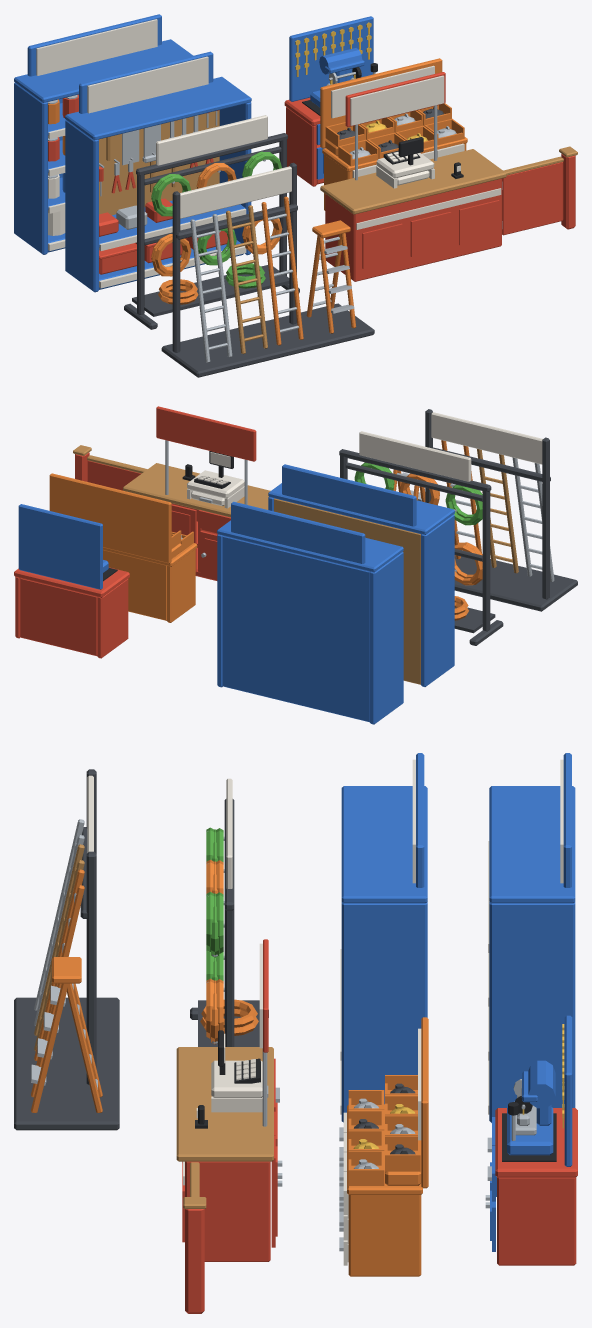
The model's file is hardware-store-set.glb.
The picture shows the model from 3 angles, top to bottom: view 1: azimuth 30°, elevation 25°; view 2: azimuth 150°, elevation 25°; view 3: azimuth 270°, elevation 25°; orthographic projection. The views are drawn at different scales.
Parts seen in each view (by area): view 1: Shelf_Tools, CheckoutCounter, LadderDisplay, Shelf_PaintCans, HoseRack, BoltBins, KeyCuttingMachine, Counter_Gate; view 2: Shelf_PaintCans, Shelf_Tools, KeyCuttingMachine, LadderDisplay, BoltBins, HoseRack, CheckoutCounter, Counter_Gate, Counter_Door_1, Counter_Door_2, Counter_Drawer; view 3: Shelf_PaintCans, Shelf_Tools, CheckoutCounter, LadderDisplay, BoltBins, KeyCuttingMachine, HoseRack, Counter_Door_3.
Part boxes in pixels (left/top/right/bottom): Shelf_Tools: left=65, top=51, right=251, bottom=292; CheckoutCounter: left=320, top=72, right=577, bottom=281; LadderDisplay: left=161, top=162, right=374, bottom=377; Shelf_PaintCans: left=14, top=14, right=193, bottom=254; HoseRack: left=124, top=115, right=299, bottom=329; BoltBins: left=320, top=58, right=467, bottom=210; KeyCuttingMachine: left=284, top=16, right=377, bottom=186; Counter_Gate: left=502, top=156, right=563, bottom=235; Shelf_PaintCans: left=217, top=501, right=403, bottom=724; Shelf_Tools: left=268, top=464, right=454, bottom=686; KeyCuttingMachine: left=14, top=504, right=129, bottom=658; LadderDisplay: left=393, top=409, right=577, bottom=611; BoltBins: left=49, top=473, right=197, bottom=622; HoseRack: left=339, top=431, right=503, bottom=645; CheckoutCounter: left=73, top=406, right=270, bottom=580; Counter_Gate: left=87, top=455, right=147, bottom=490; Counter_Door_1: left=200, top=531, right=217, bottom=577; Counter_Door_2: left=171, top=504, right=196, bottom=571; Counter_Drawer: left=199, top=510, right=230, bottom=531; Shelf_PaintCans: left=488, top=753, right=575, bottom=1122; Shelf_Tools: left=340, top=753, right=427, bottom=1122; CheckoutCounter: left=176, top=939, right=273, bottom=1313; LadderDisplay: left=14, top=769, right=119, bottom=1130; BoltBins: left=339, top=1017, right=428, bottom=1276; KeyCuttingMachine: left=495, top=1015, right=577, bottom=1265; HoseRack: left=190, top=778, right=268, bottom=1046; Counter_Door_3: left=271, top=1135, right=282, bottom=1247.
Bounding box in the file's own units: 22.23 × 9 × 17.07.
